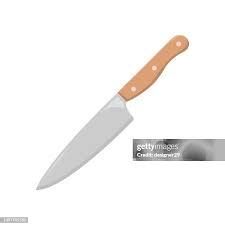Knife: (35, 34, 189, 190)
